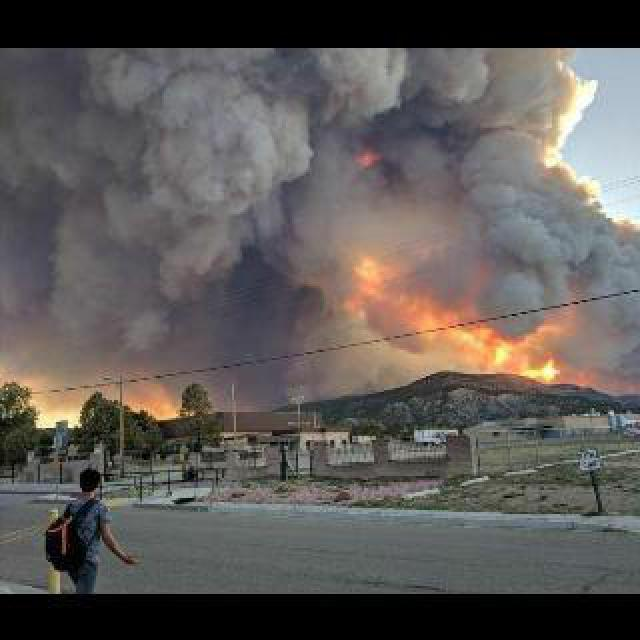Fire: (420, 320, 582, 394), (340, 254, 440, 320)
Smoke: (3, 51, 621, 392)
